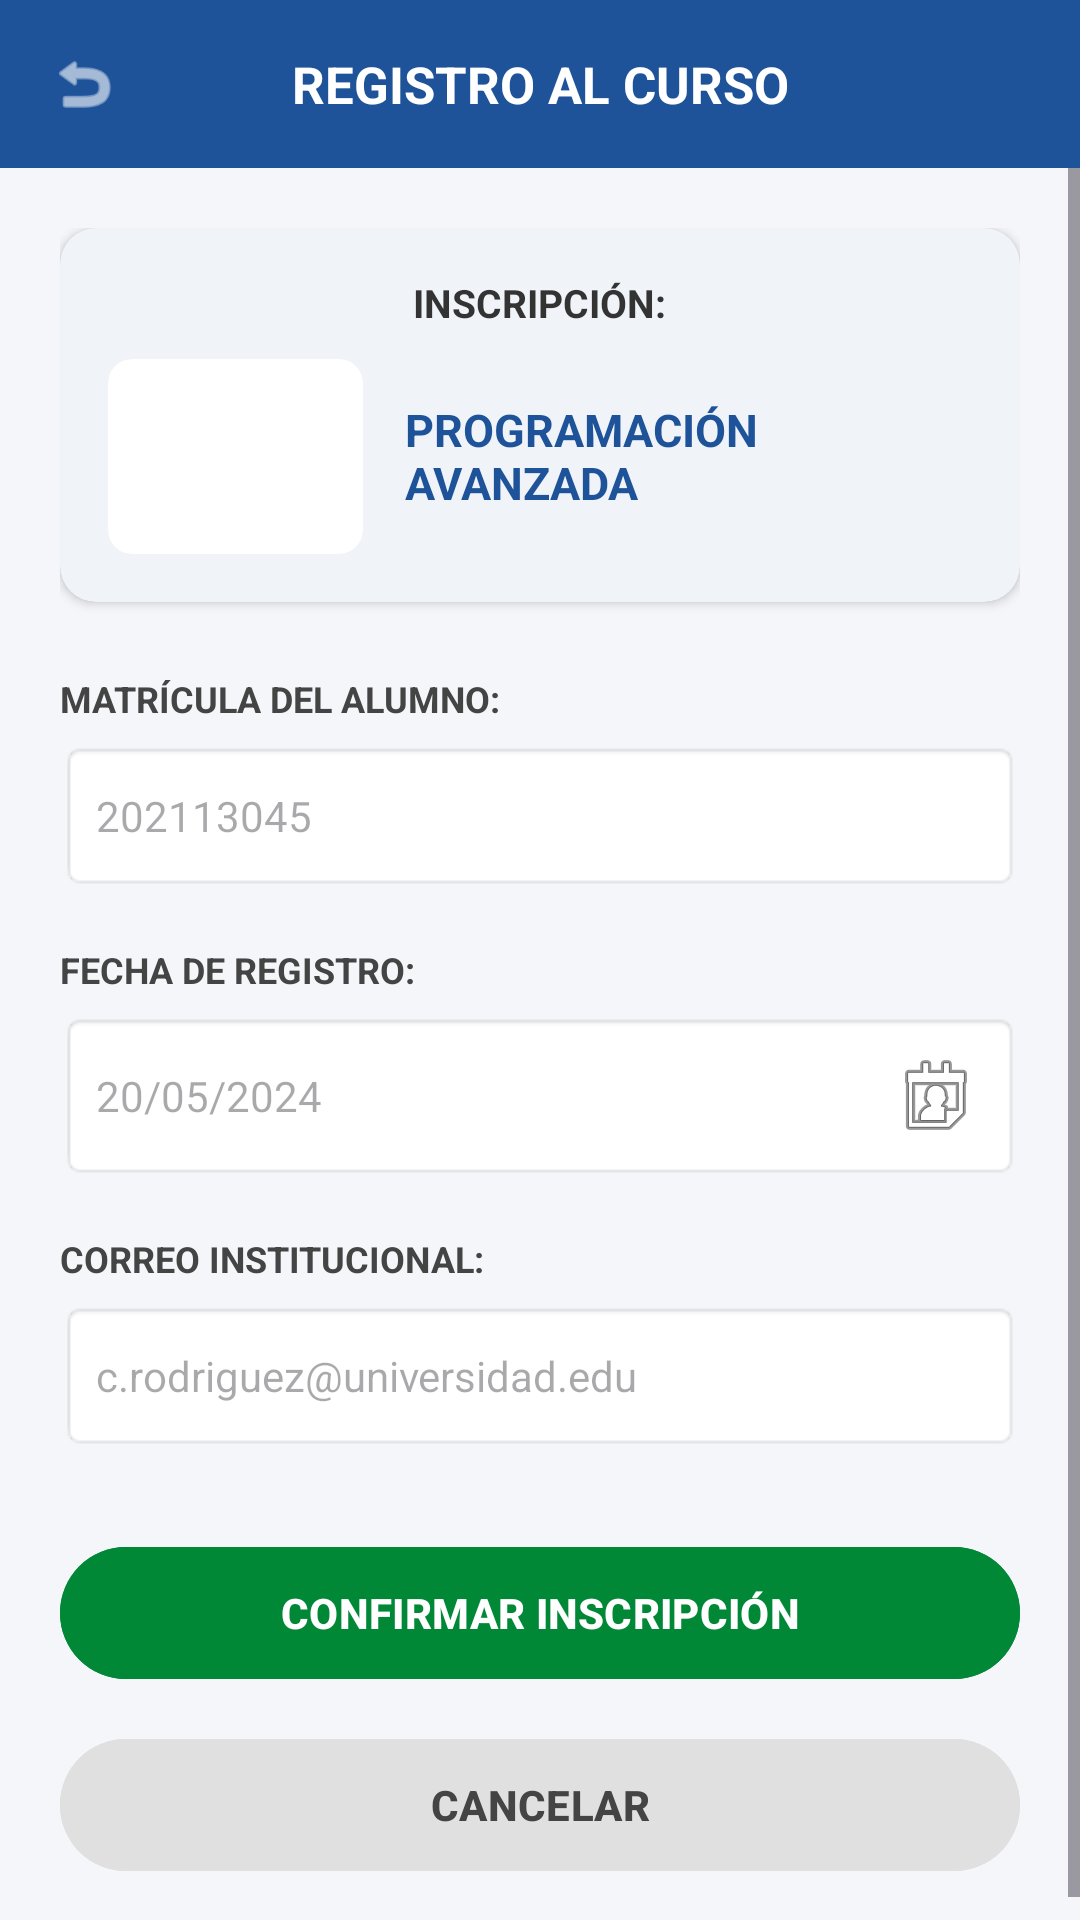

Screen size 1080*1920. Icon name, then its box in pixels as [x1, y1, x2, y2]:
Atrás: [59, 61, 111, 108]
